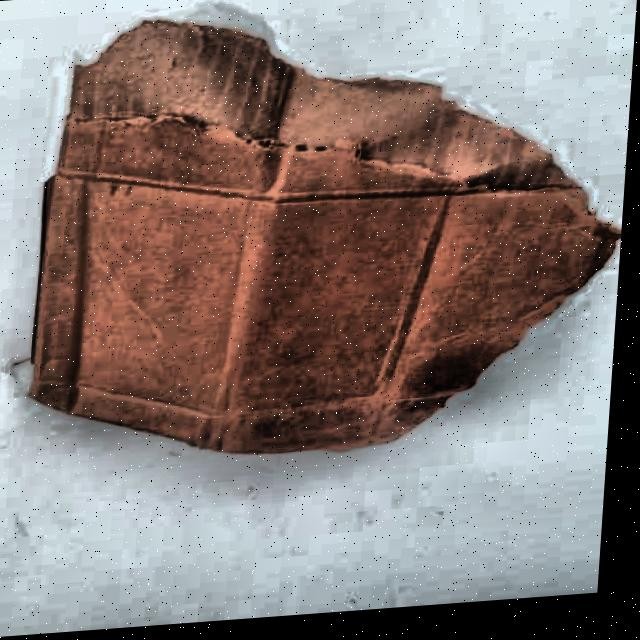cardboard: (16, 0, 637, 476)
